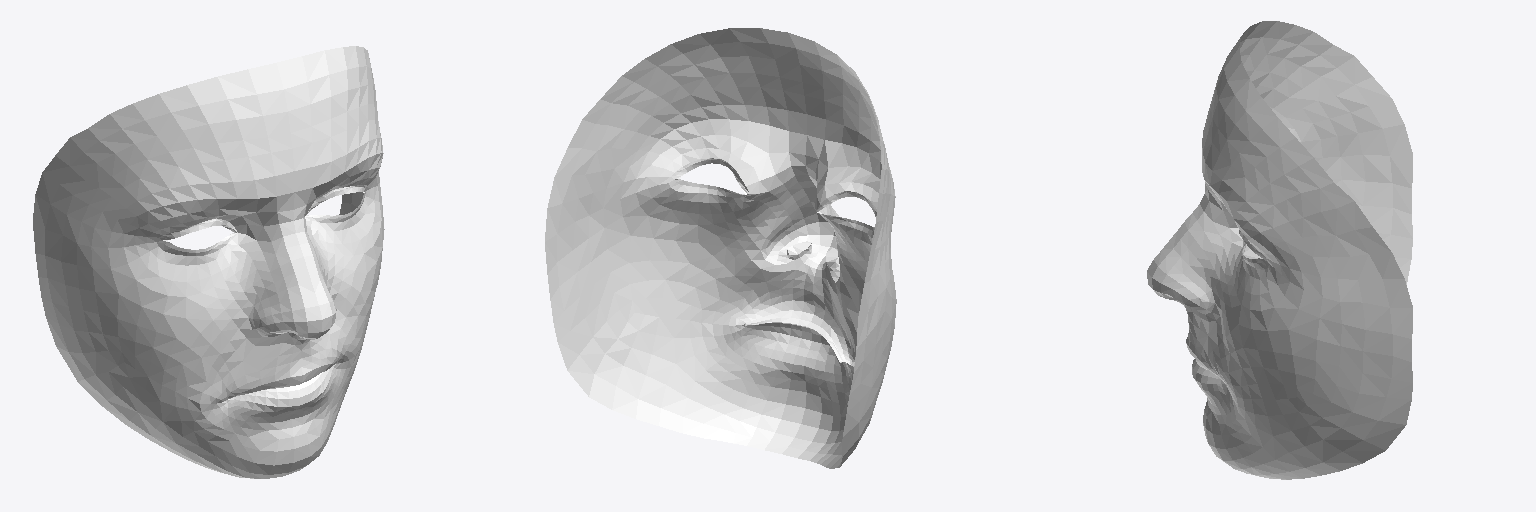
File: mouthFrown_R.obj
The picture shows the model from 3 angles: view 1: azimuth 30°, elevation 25°; view 2: azimuth 150°, elevation 25°; view 3: azimuth 270°, elevation 25°; orthographic projection.
Visible parts, largest first — view 1: default; view 2: default; view 3: default.
Part boxes in pixels (x1,y1,x2,y2): default: (33,46,384,478); default: (545,28,896,468); default: (1147,21,1412,479).
Bounding box in the file's own units: 0.1447 × 0.182 × 0.1055.